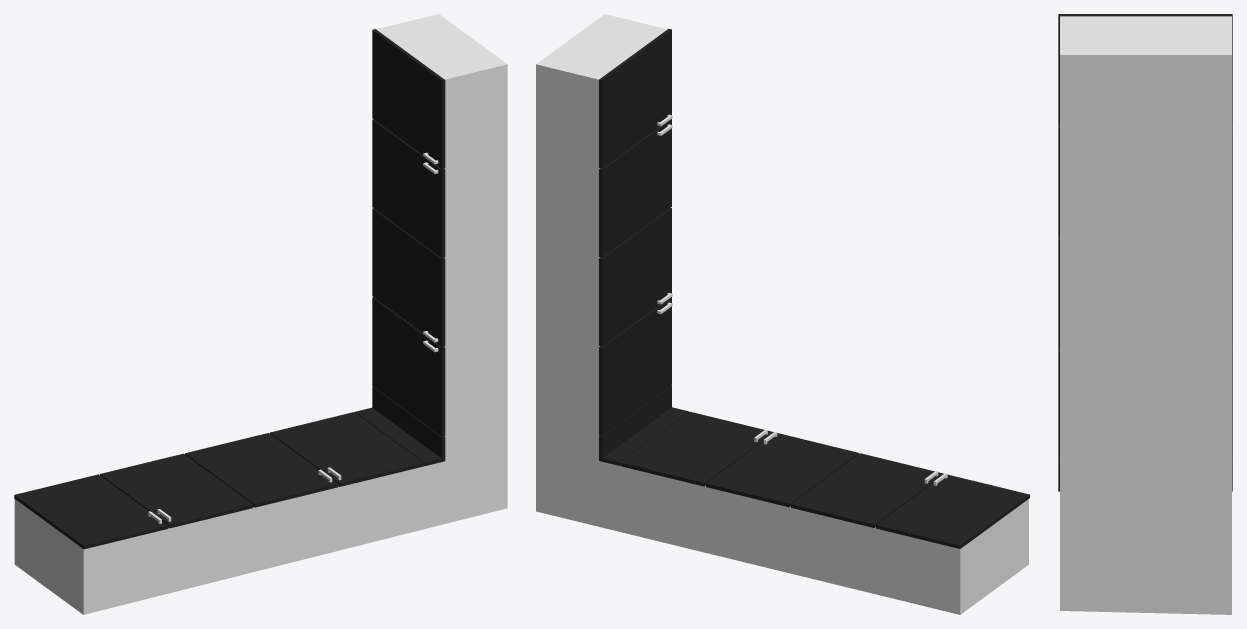
File: kitchen-island.glb
The picture shows the model from 3 angles, left to right: view 1: azimuth 30°, elevation 25°; view 2: azimuth 150°, elevation 25°; view 3: azimuth 270°, elevation 25°; orthographic projection. The views are drawn at different scales.
Parts seen in each view (by area): view 1: kitchen_item_003; view 2: kitchen_item_003; view 3: kitchen_item_003.
Part boxes in pixels (left/top/right/bottom): kitchen_item_003: left=14, top=14, right=507, bottom=614; kitchen_item_003: left=536, top=14, right=1029, bottom=614; kitchen_item_003: left=1058, top=14, right=1232, bottom=614.
Size of the model in its own units: 3.12 by 3.14 by 0.8861.
1 material, 1 textured.
